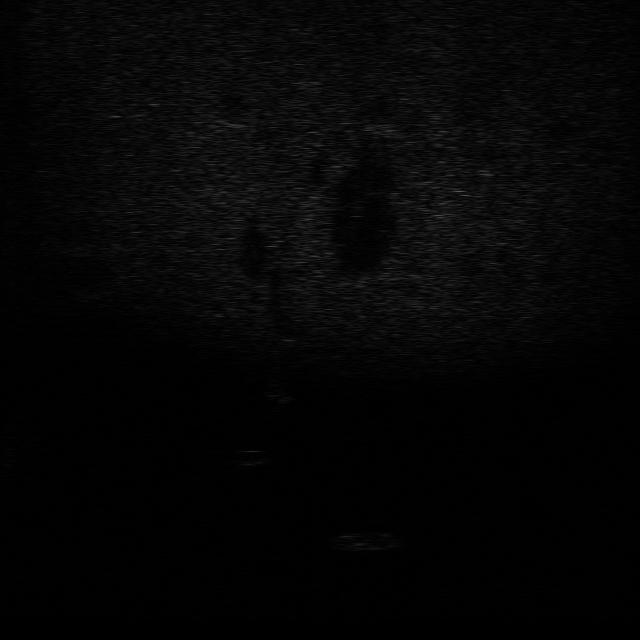ball: (231, 445, 271, 471)
circle cage: (323, 525, 398, 554)
human body: (256, 364, 296, 418)
